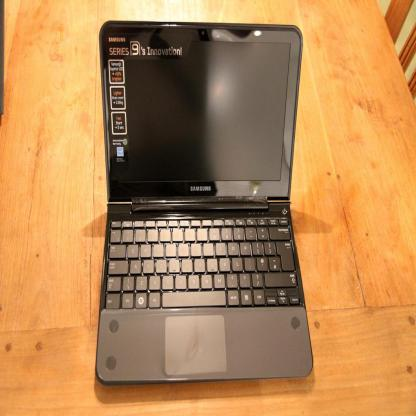board: (94, 18, 314, 387)
